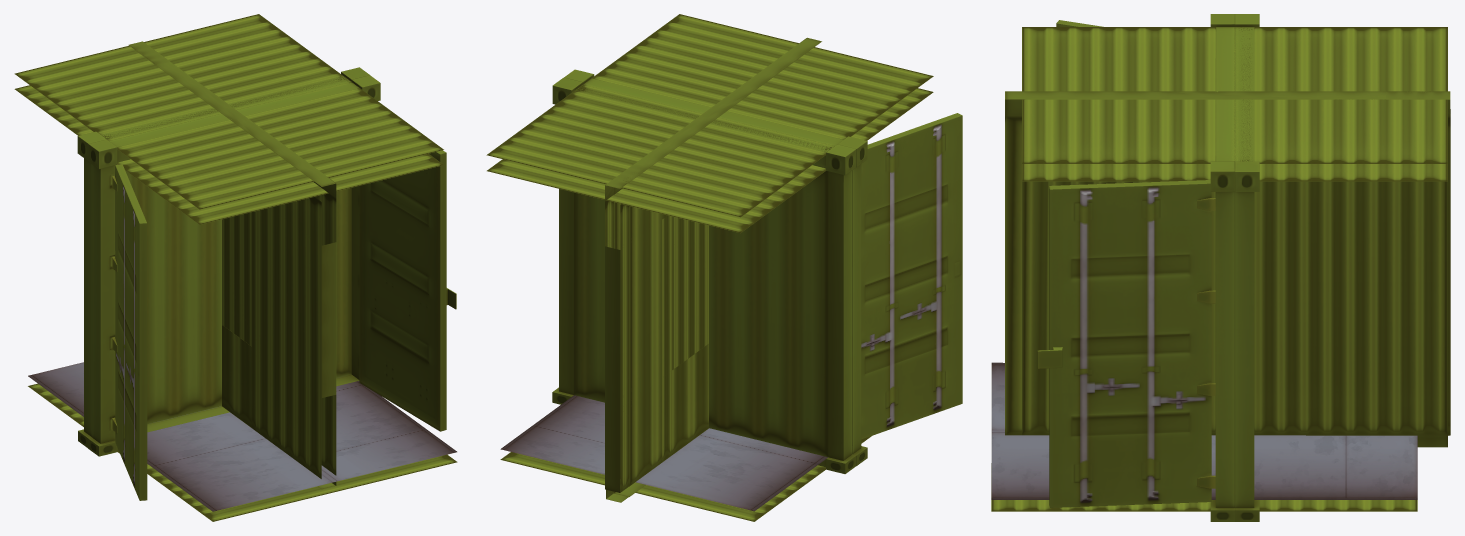
File: ContainerParts.fbx
The picture shows the model from 3 angles, left to right: view 1: azimuth 30°, elevation 25°; view 2: azimuth 150°, elevation 25°; view 3: azimuth 270°, elevation 25°; orthographic projection. The views are drawn at different scales.
Parts seen in each view (by area): view 1: Container_Roof, Container_Open, Container_End, Container_Door, Container_Floor, Container_Window, Container_Wall; view 2: Container_Roof, Container_End, Container_Open, Container_Floor, Container_Window, Container_Door, Container_Wall; view 3: Container_Open, Container_Roof, Container_Wall, Container_Floor, Container_End, Container_Window, Container_Door.
Part boxes in pixels (x1=…): Container_Roof: x1=14, y1=14, x2=443, y2=224; Container_Open: x1=88, y1=75, x2=456, y2=500; Container_End: x1=77, y1=67, x2=369, y2=448; Container_Door: x1=136, y1=51, x2=336, y2=489; Container_Floor: x1=28, y1=362, x2=457, y2=521; Container_Window: x1=128, y1=41, x2=335, y2=489; Container_Wall: x1=179, y1=68, x2=282, y2=345; Container_Roof: x1=486, y1=14, x2=933, y2=233; Container_End: x1=552, y1=77, x2=856, y2=473; Container_Open: x1=564, y1=69, x2=962, y2=465; Container_Floor: x1=500, y1=395, x2=871, y2=521; Container_Window: x1=605, y1=38, x2=821, y2=492; Container_Door: x1=614, y1=37, x2=821, y2=496; Container_Wall: x1=606, y1=216, x2=708, y2=502; Container_Open: x1=1037, y1=14, x2=1235, y2=521; Container_Roof: x1=1022, y1=27, x2=1447, y2=181; Container_Wall: x1=1022, y1=99, x2=1447, y2=447; Container_Floor: x1=991, y1=362, x2=1417, y2=511; Container_End: x1=1235, y1=14, x2=1259, y2=521; Container_Window: x1=1005, y1=91, x2=1450, y2=435; Container_Door: x1=1005, y1=91, x2=1430, y2=435.
Bounding box in the file's own units: 317 × 300 × 357.
